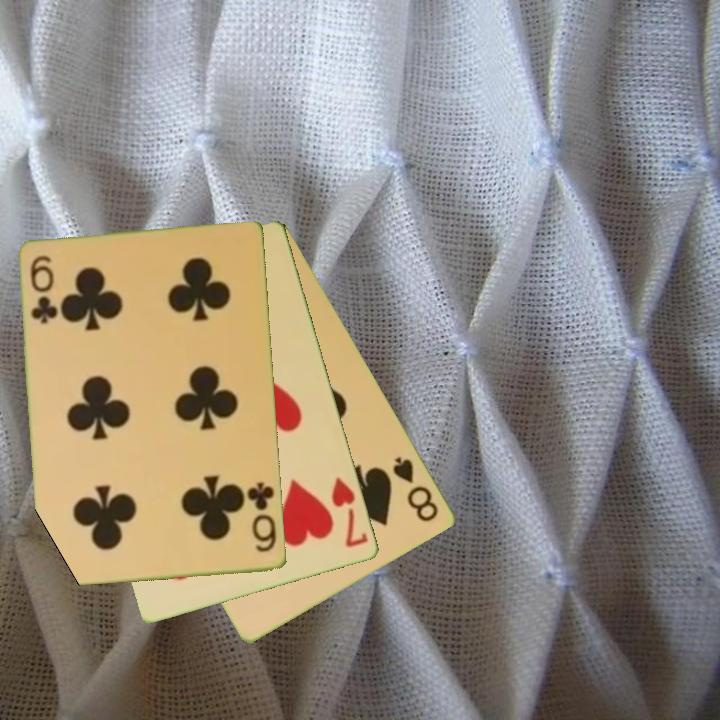6c: (244, 479, 280, 555), (27, 252, 60, 327)
7h: (328, 473, 372, 551)
8s: (389, 453, 442, 525)
